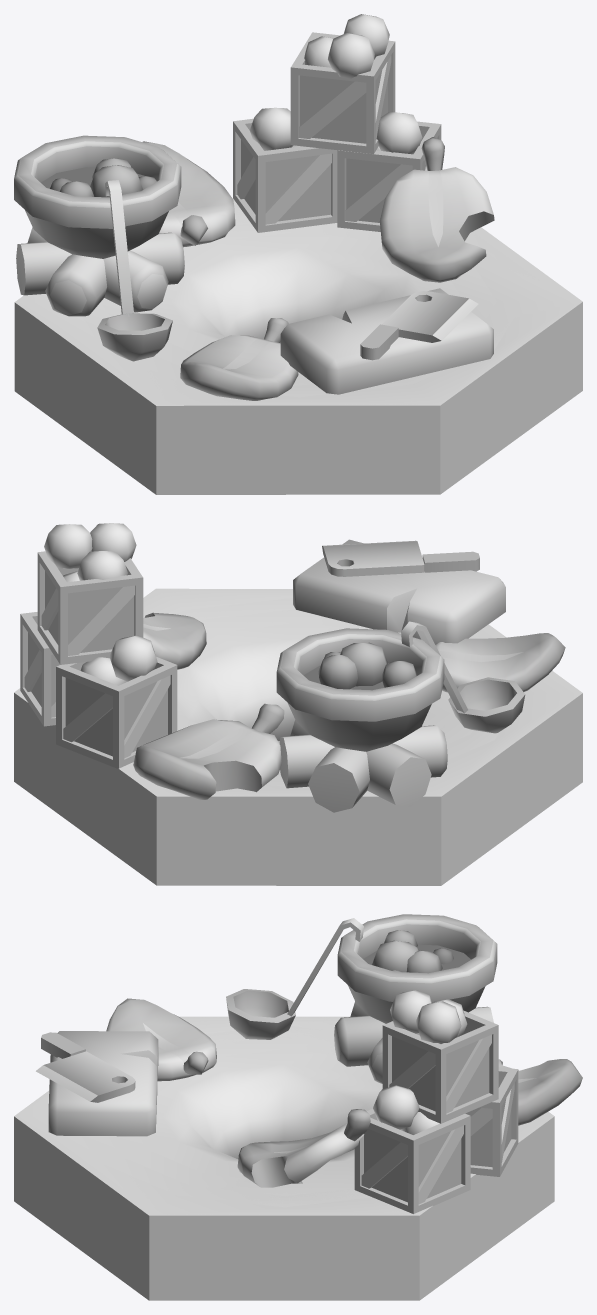
Rendered from Food_Hex_Upgrade.fbx.
3 views of the same model, one above another, from view 1: azimuth 30°, elevation 25°; view 2: azimuth 150°, elevation 25°; view 3: azimuth 270°, elevation 25° (orthographic). The views are drawn at different scales.
Parts seen in each view (by area): view 1: Hex_Food_3Star, 3_Star_Env, 2_Star_Env, 0_Star_Env, Hex_Food_0Star, 1_Star_Env, Hex_Food_2Star, Hex_Food_1Star; view 2: Hex_Food_3Star, 2_Star_Env, 3_Star_Env, 0_Star_Env, 1_Star_Env, Hex_Food_0Star, Hex_Food_2Star, Hex_Food_1Star; view 3: Hex_Food_3Star, 3_Star_Env, Hex_Food_0Star, 2_Star_Env, 0_Star_Env, 1_Star_Env, Hex_Food_2Star, Hex_Food_1Star.
Part boxes in pixels (<box>): Hex_Food_3Star: <box>14,198,582,494</box>; 3_Star_Env: <box>233,14,441,232</box>; 2_Star_Env: <box>14,135,184,361</box>; 0_Star_Env: <box>142,137,494,400</box>; Hex_Food_0Star: <box>72,212,570,405</box>; 1_Star_Env: <box>280,288,493,394</box>; Hex_Food_2Star: <box>23,199,581,405</box>; Hex_Food_1Star: <box>53,200,571,405</box>; Hex_Food_3Star: <box>14,588,582,885</box>; 2_Star_Env: <box>276,621,525,812</box>; 3_Star_Env: <box>20,523,177,768</box>; 0_Star_Env: <box>133,612,565,799</box>; 1_Star_Env: <box>293,539,505,644</box>; Hex_Food_0Star: <box>16,589,572,796</box>; Hex_Food_2Star: <box>16,588,581,796</box>; Hex_Food_1Star: <box>14,589,561,796</box>; Hex_Food_3Star: <box>14,1016,554,1300</box>; 3_Star_Env: <box>354,990,518,1213</box>; Hex_Food_0Star: <box>63,1016,539,1215</box>; 2_Star_Env: <box>226,914,497,1083</box>; 0_Star_Env: <box>106,998,582,1187</box>; 1_Star_Env: <box>36,1031,158,1136</box>; Hex_Food_2Star: <box>23,1016,553,1215</box>; Hex_Food_1Star: <box>19,1016,552,1215</box>.
Bounding box in the file's own units: 1 × 0.7252 × 1.21.
